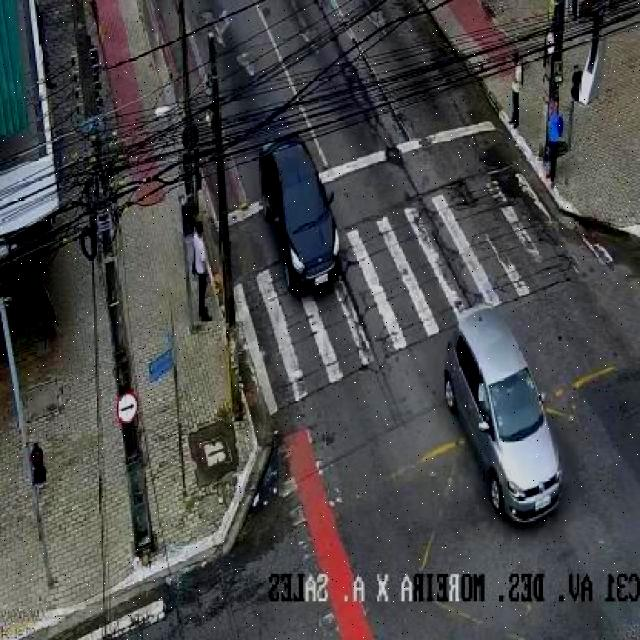Car: (425, 305, 579, 531), (245, 112, 367, 302)
